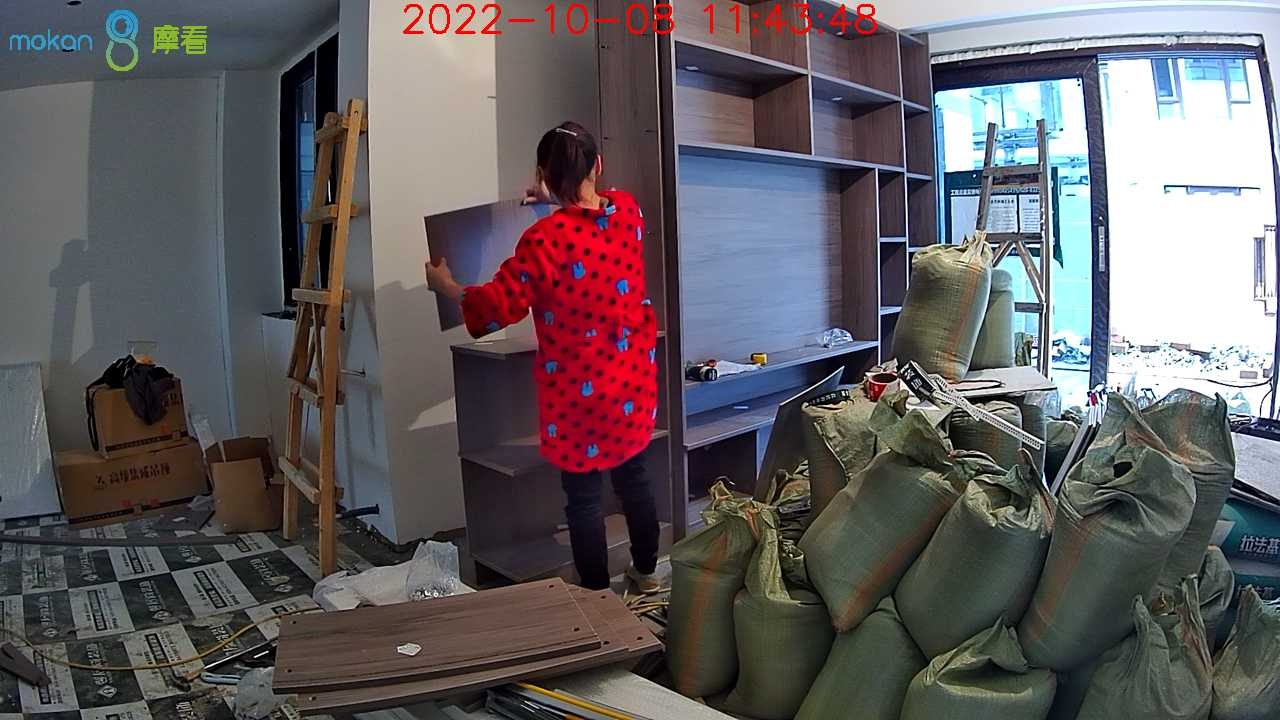people: (425, 120, 659, 596)
window: (936, 52, 1276, 422)
